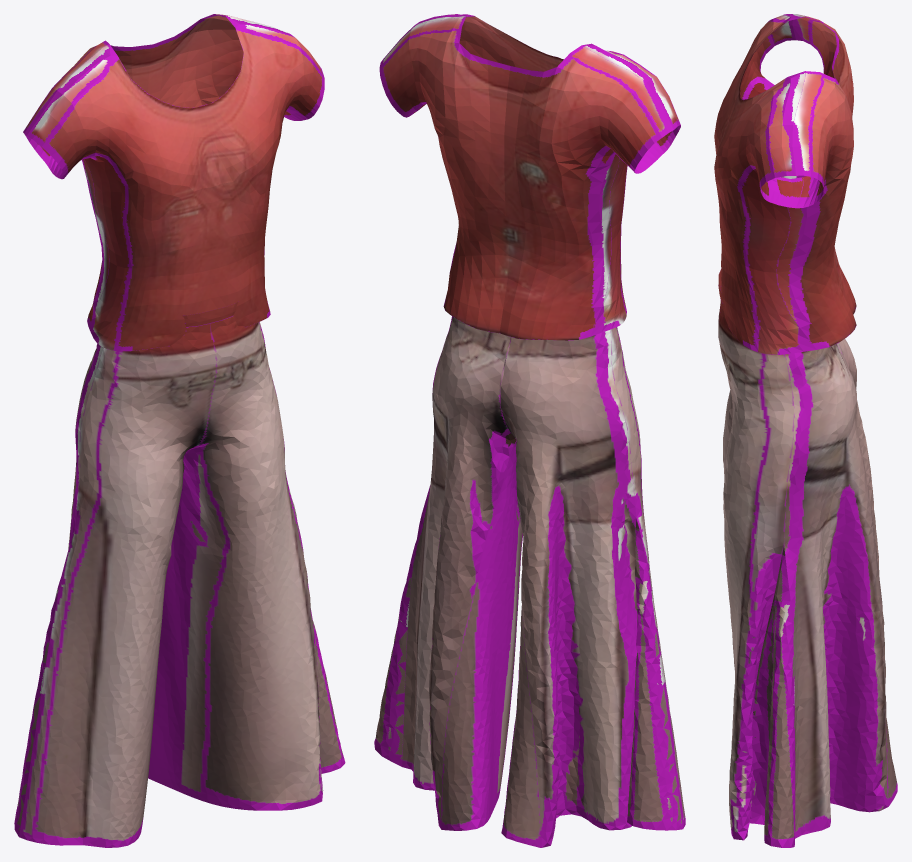
3 views of the same model, side by side, from view 1: azimuth 30°, elevation 25°; view 2: azimuth 150°, elevation 25°; view 3: azimuth 270°, elevation 25° (orthographic). The views are drawn at different scales.
Size of the model in its own units: 0.3902 by 0.9185 by 0.2049.
1 material, 1 textured.
